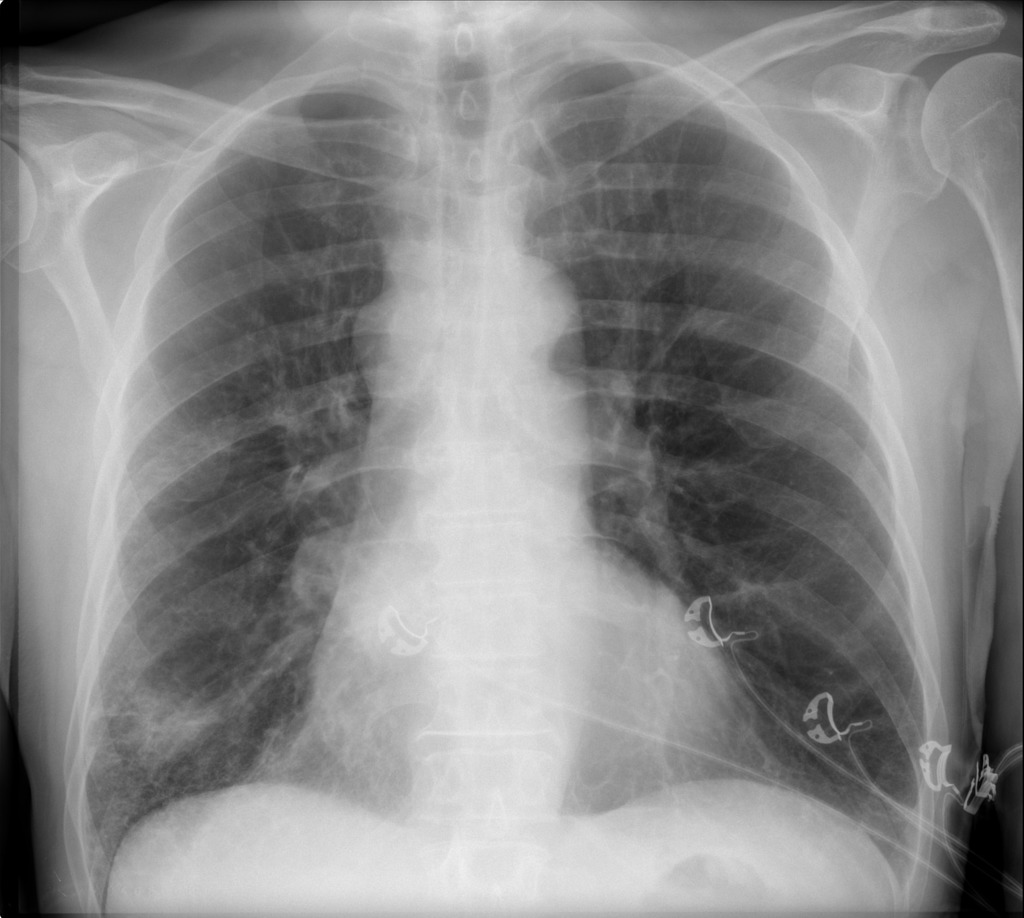cancer: (104, 127, 460, 819), (531, 92, 885, 777)
